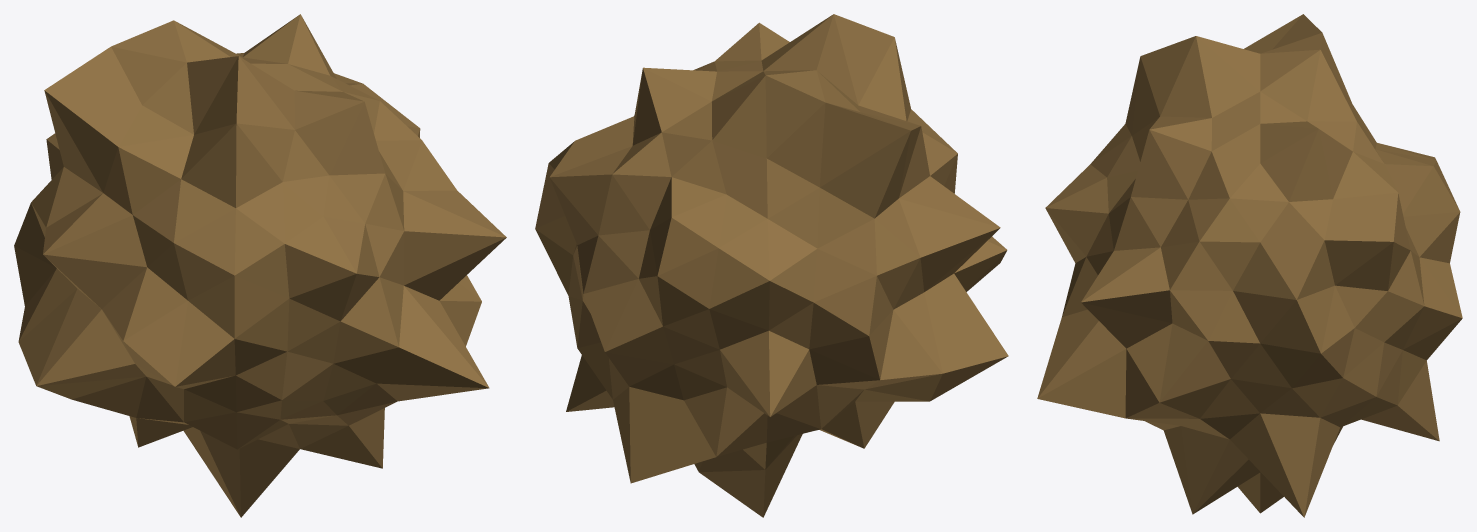
The model's file is asteroid3.glb.
3 renders of one model, left to right at view 1: azimuth 30°, elevation 25°; view 2: azimuth 150°, elevation 25°; view 3: azimuth 270°, elevation 25°, orthographic. The views are drawn at different scales.
Visible parts, largest first — view 1: Mesh_Mesh_head_geo.001_lambert2SG.001; view 2: Mesh_Mesh_head_geo.001_lambert2SG.001; view 3: Mesh_Mesh_head_geo.001_lambert2SG.001.
Part boxes in pixels (x1,y1,x2,y2): Mesh_Mesh_head_geo.001_lambert2SG.001: [14, 14, 506, 517]; Mesh_Mesh_head_geo.001_lambert2SG.001: [535, 14, 1008, 517]; Mesh_Mesh_head_geo.001_lambert2SG.001: [1037, 14, 1462, 517].
Size of the model in its own units: 29.05 by 32.29 by 27.01.
